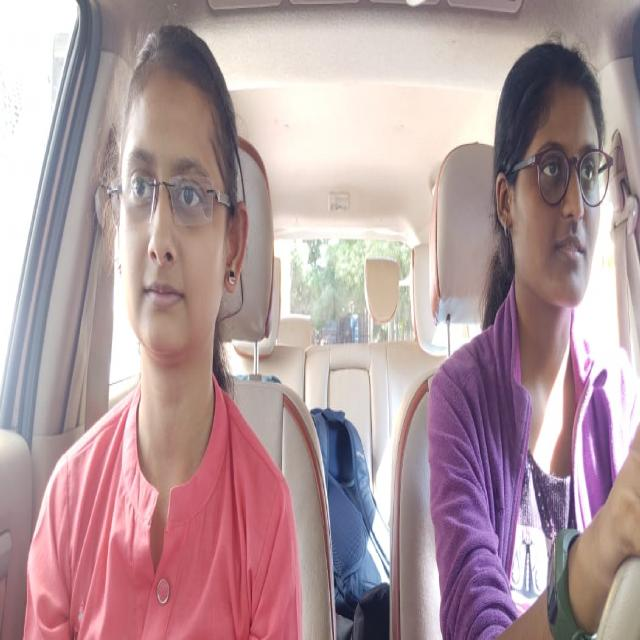person: (106, 22, 246, 374), (491, 33, 614, 320)
